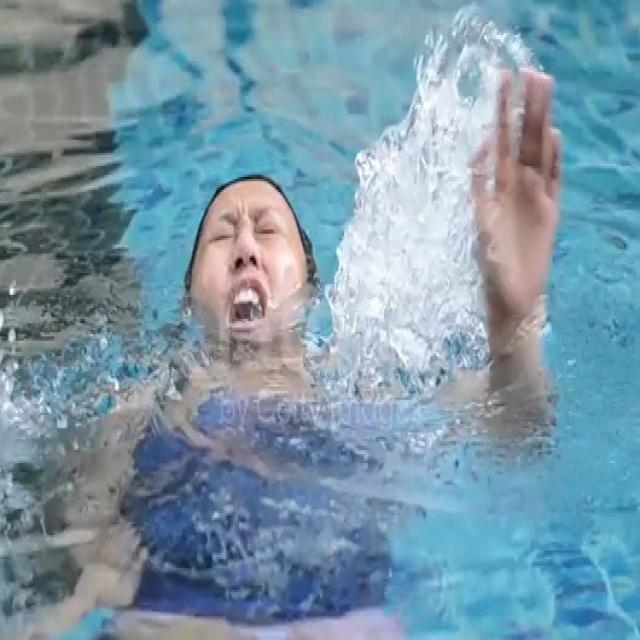Drowning: (62, 46, 582, 464)
